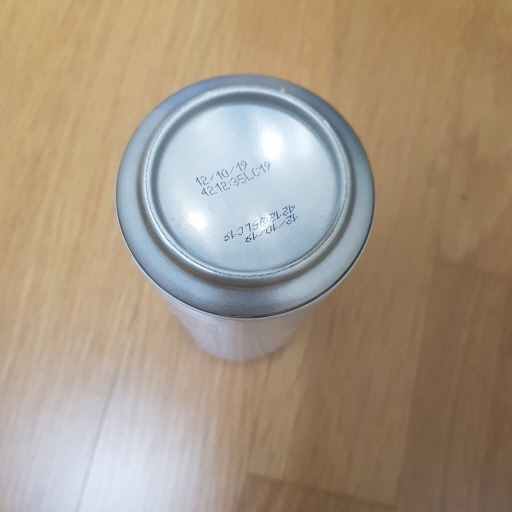Metal_0: (114, 71, 376, 364)
